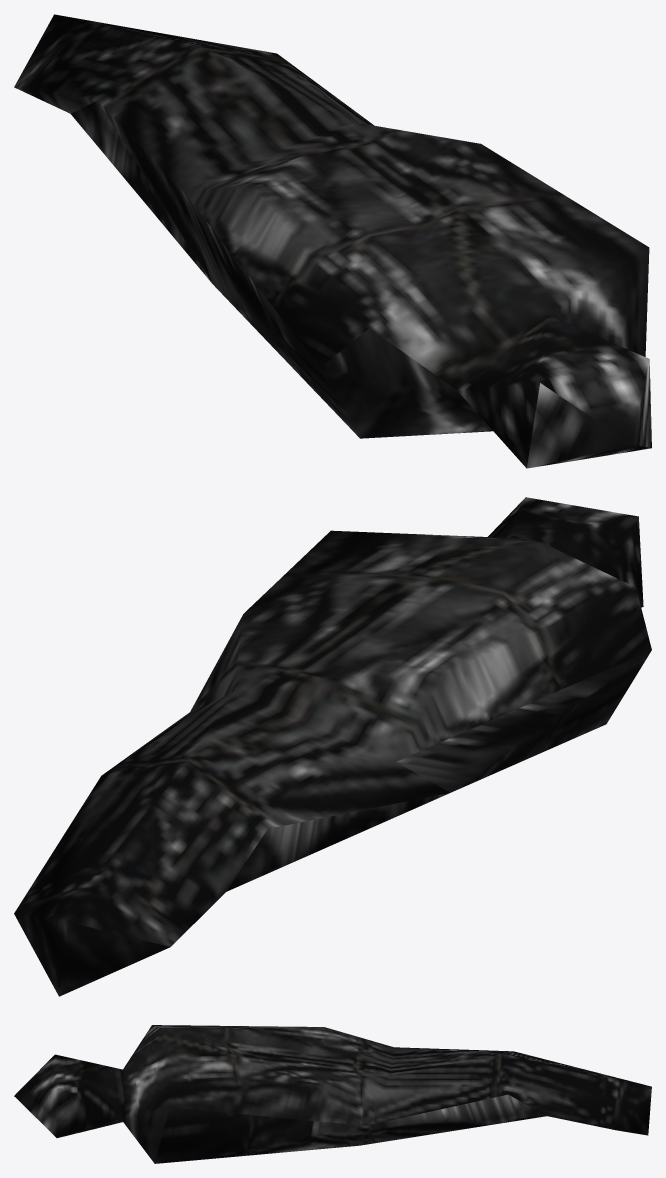
File: bodybag.glb
3 views of the same model, one above another, from view 1: azimuth 30°, elevation 25°; view 2: azimuth 150°, elevation 25°; view 3: azimuth 270°, elevation 25° (orthographic). The views are drawn at different scales.
Visible parts, largest first — view 1: Body; view 2: Body; view 3: Body.
Part boxes in pixels (x1,y1,x2,y2): Body: (14, 14, 651, 468); Body: (14, 497, 651, 996); Body: (14, 1025, 651, 1163).
Bounding box in the file's own units: 0.6791 × 0.3638 × 2.04.
1 material, 1 textured.
